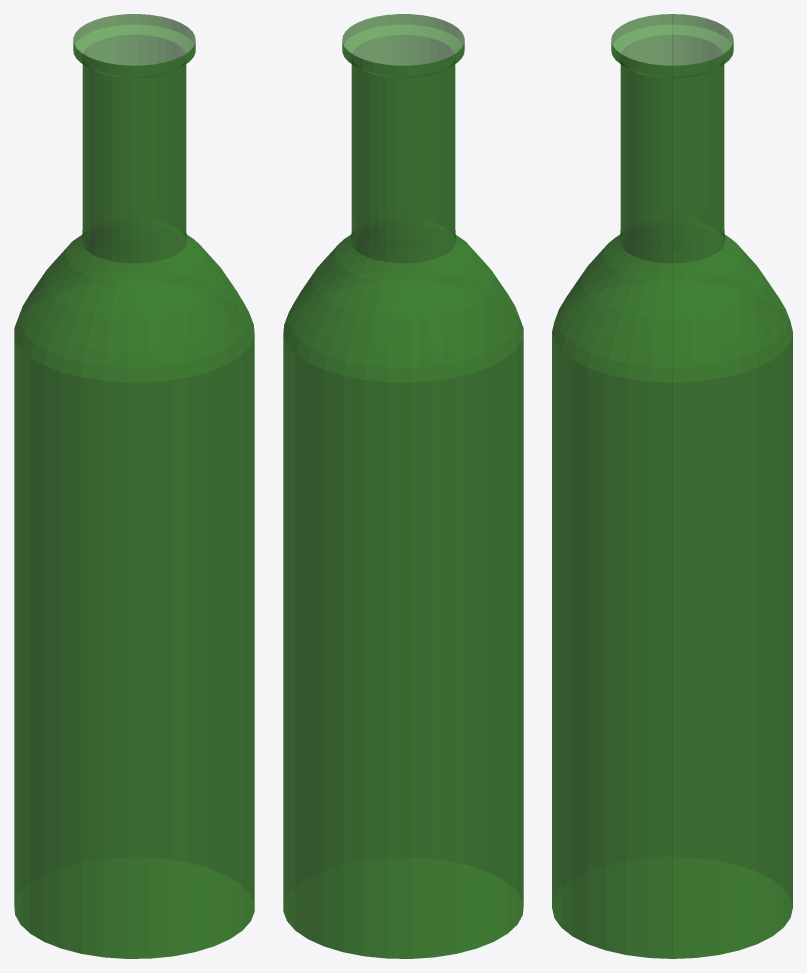
The model's file is bottle_rum.glb.
3 renders of one model, left to right at view 1: azimuth 30°, elevation 25°; view 2: azimuth 150°, elevation 25°; view 3: azimuth 270°, elevation 25°, orthographic.
Parts seen in each view (by area): view 1: Cylinder; view 2: Cylinder; view 3: Cylinder.
Part boxes in pixels (x1,y1,x2,y2): Cylinder: (14, 14, 254, 958); Cylinder: (283, 14, 523, 958); Cylinder: (552, 14, 792, 958).
Bounding box in the file's own units: 0.1 × 0.3977 × 0.1.
